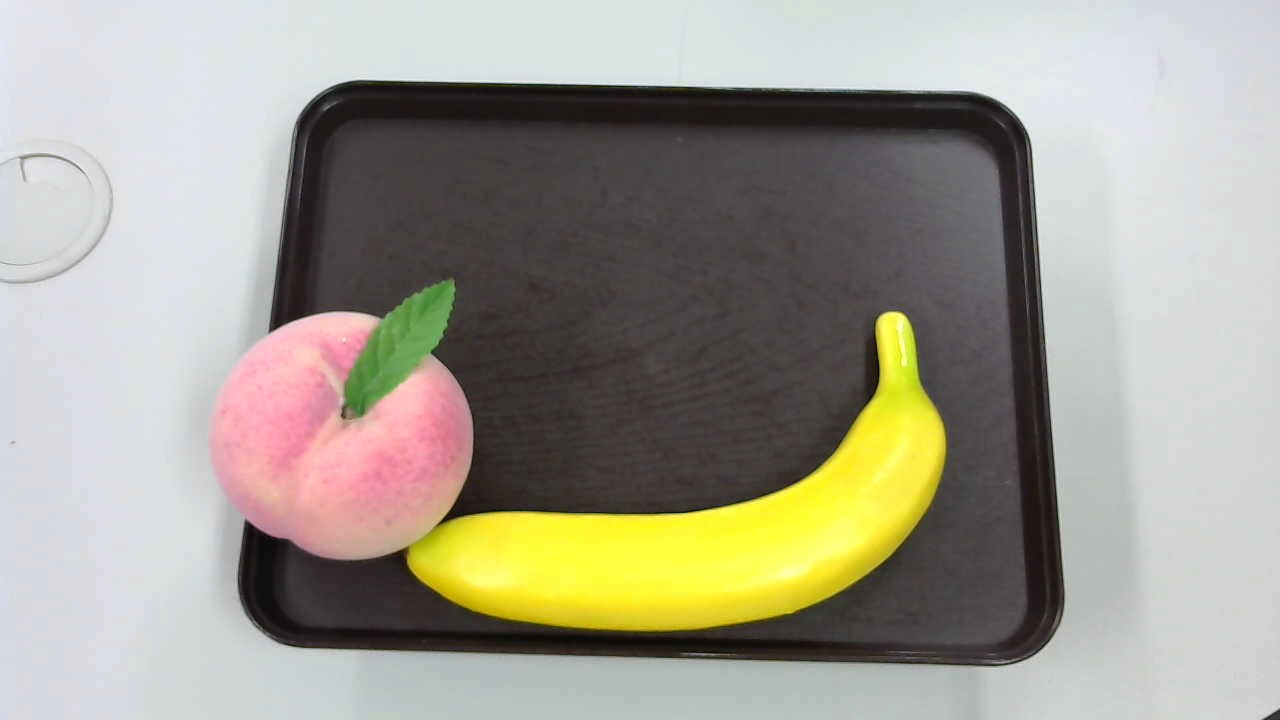banana: (402, 313, 954, 639)
peach: (203, 283, 480, 572)
